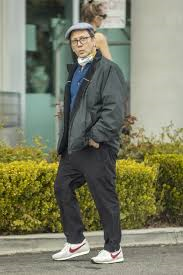mask_weared_incorrect: (70, 29, 96, 64)
